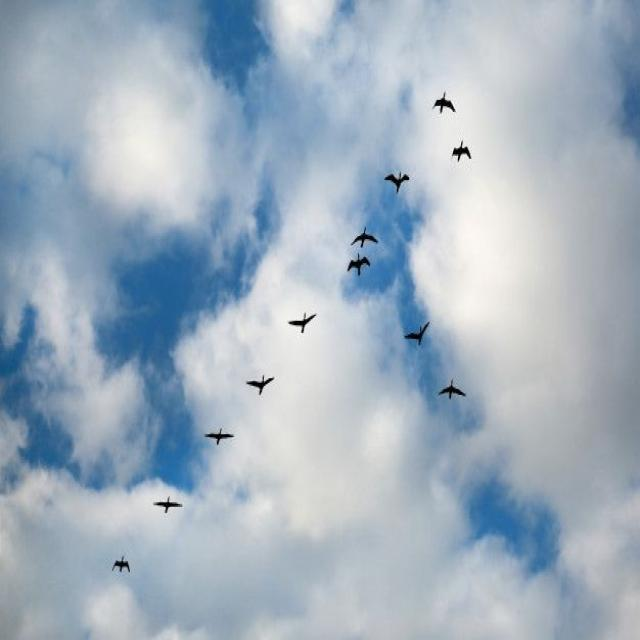bird: (391, 296, 452, 360), (107, 540, 146, 614), (432, 374, 480, 434), (240, 360, 282, 422), (374, 151, 416, 200), (145, 480, 195, 520), (444, 126, 472, 190), (338, 216, 384, 252), (197, 414, 240, 452), (428, 82, 466, 124), (285, 300, 318, 343), (340, 248, 373, 286)
